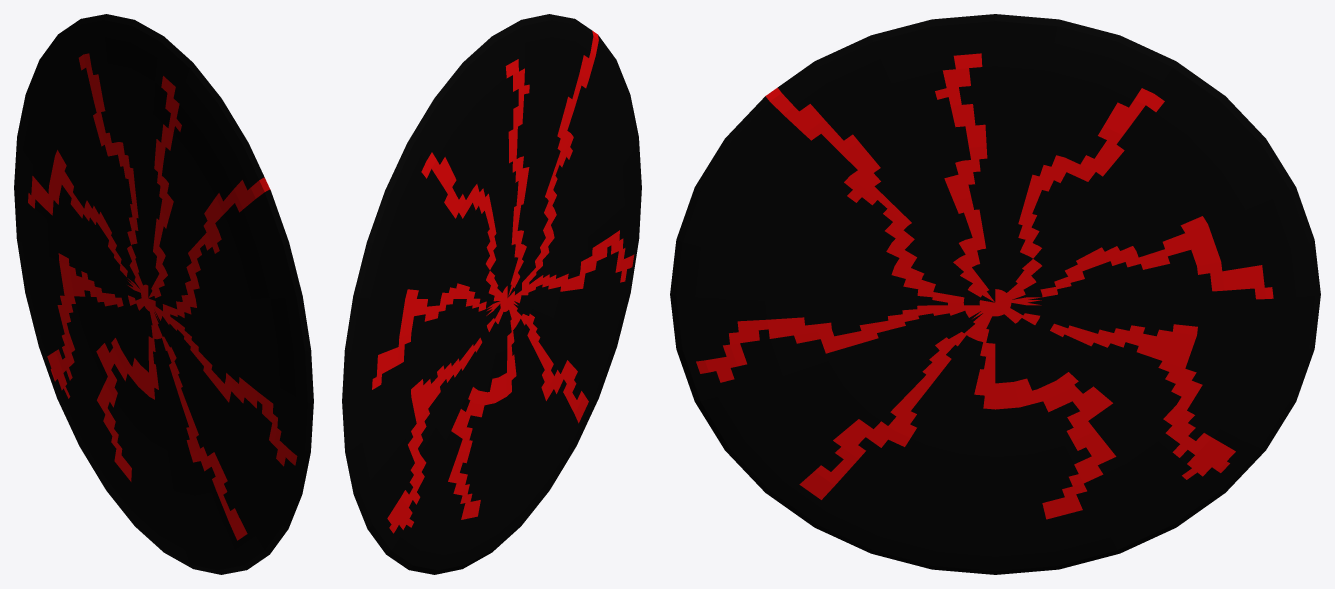
File: crackerscheese.glb
3 views of the same model, side by side, from view 1: azimuth 30°, elevation 25°; view 2: azimuth 150°, elevation 25°; view 3: azimuth 270°, elevation 25° (orthographic). The views are drawn at different scales.
Parts seen in each view (by area): view 1: Sphere; view 2: Sphere; view 3: Sphere.
Boxes of the visible parts, box(x1,y1,x2,y2) form: Sphere: box(14, 14, 313, 574); Sphere: box(342, 14, 641, 574); Sphere: box(670, 14, 1320, 574).
Bounding box in the file's own units: 8.52 × 134 × 141.
